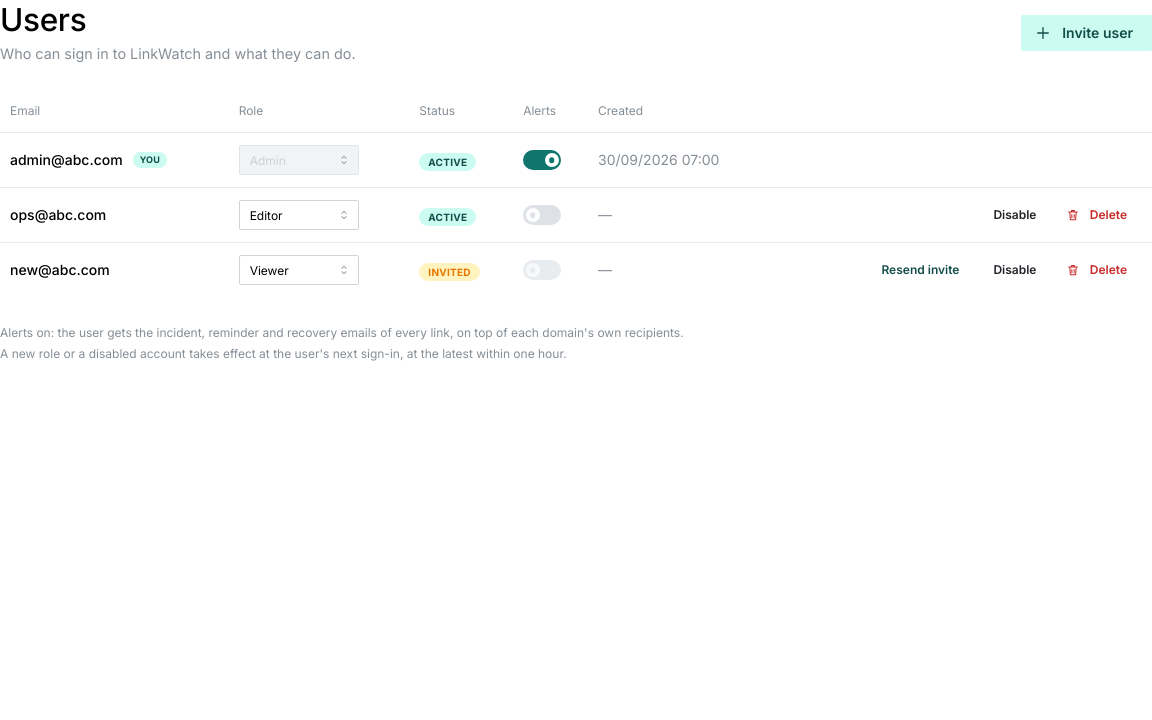
UsersPage — SCR-09, FR-29 › FR-29: an existing account shows the duplicate error in the dialog
Click the button "Invite user" at (1087, 33), box [1021, 15, 1151, 51]
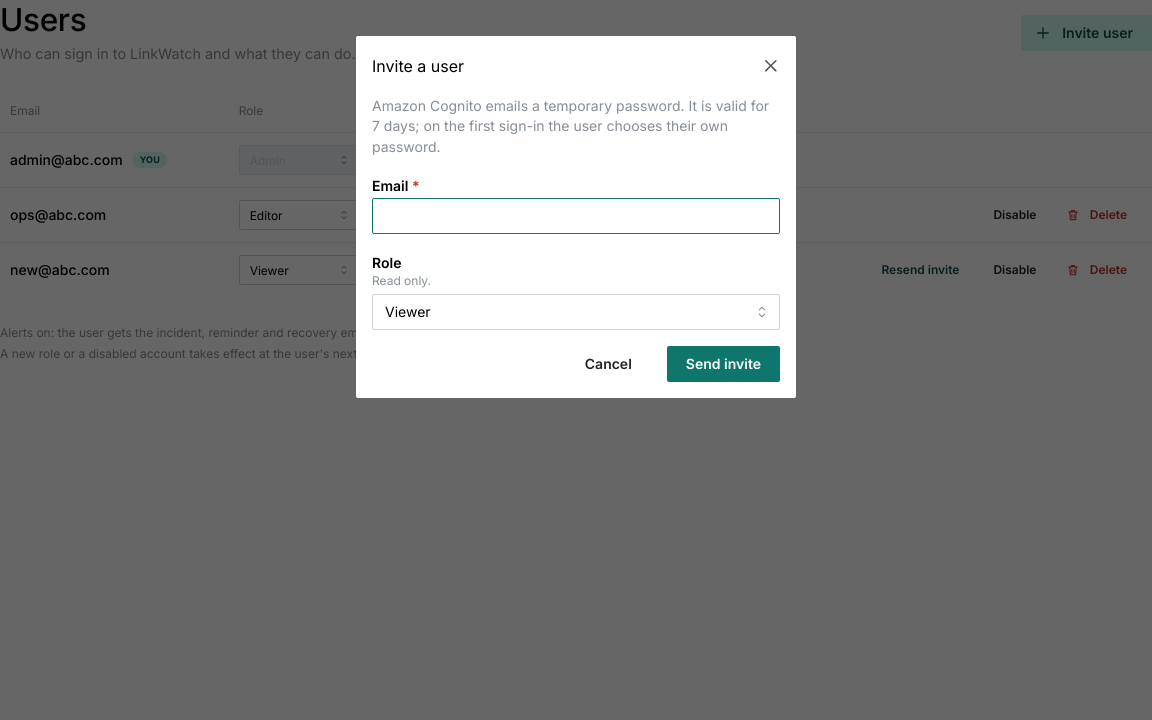
Type "ops@abc.com" into the field labelled "Email *" at (576, 216), box [372, 198, 780, 234]
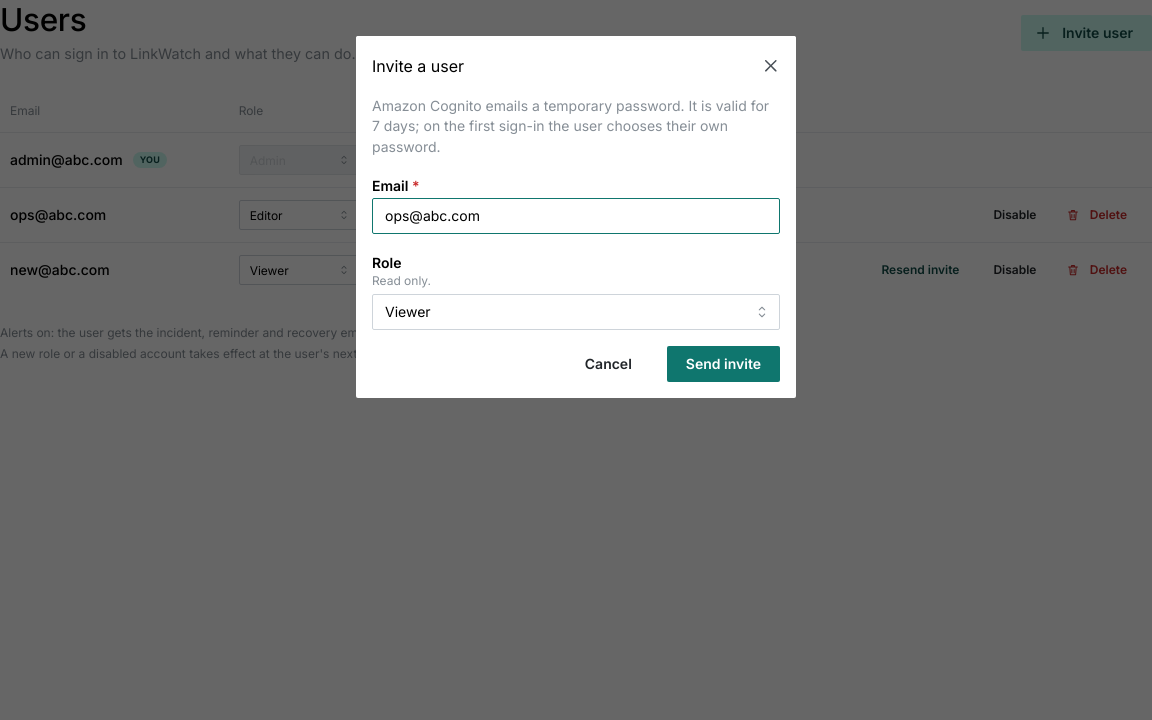
Click the button "Send invite" at (723, 364), box [667, 346, 780, 382]
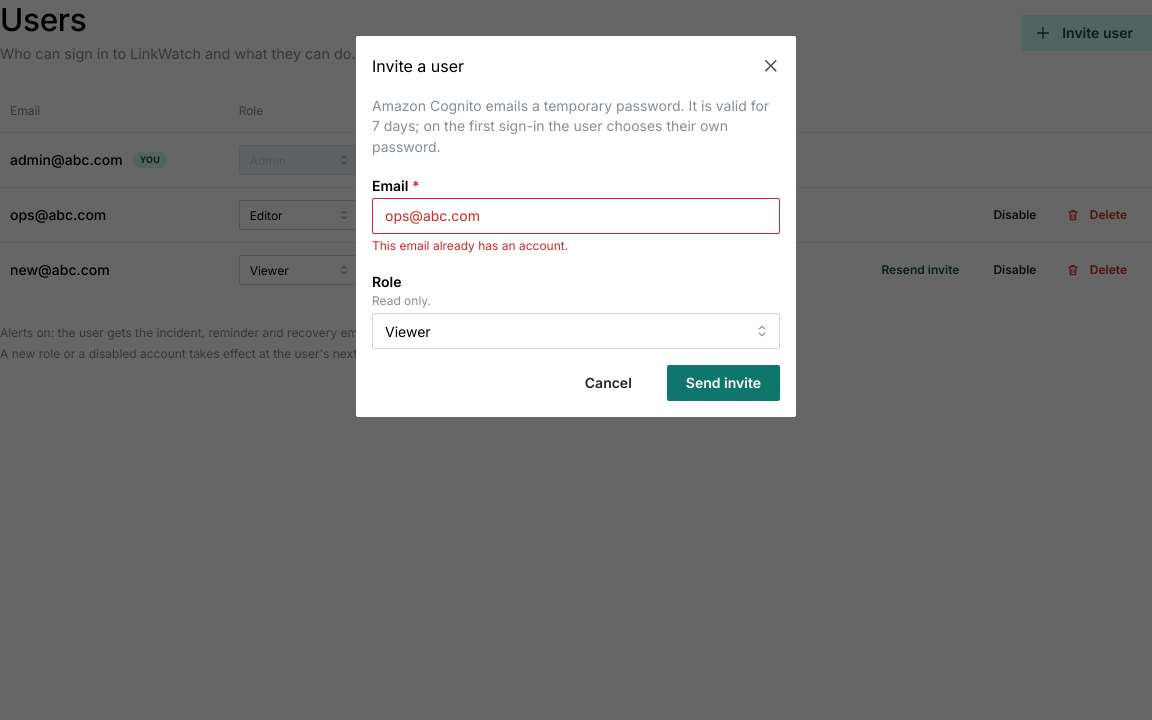
Expected: the text "This email already has an account." is shown, [372, 238, 568, 253]
